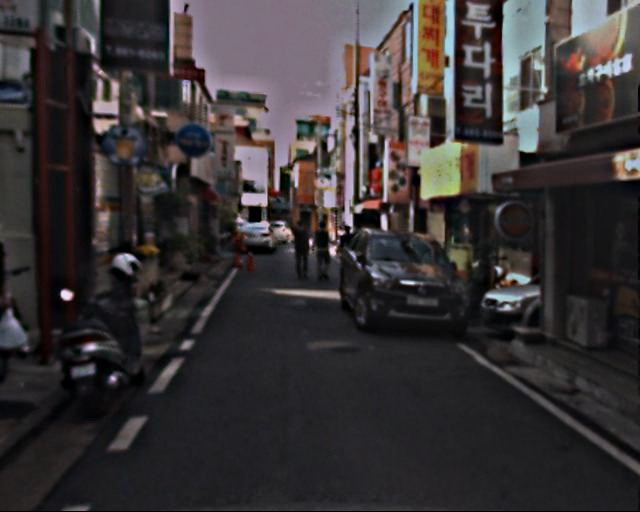person: (312, 219, 336, 277), (289, 219, 312, 276), (333, 228, 356, 285)
